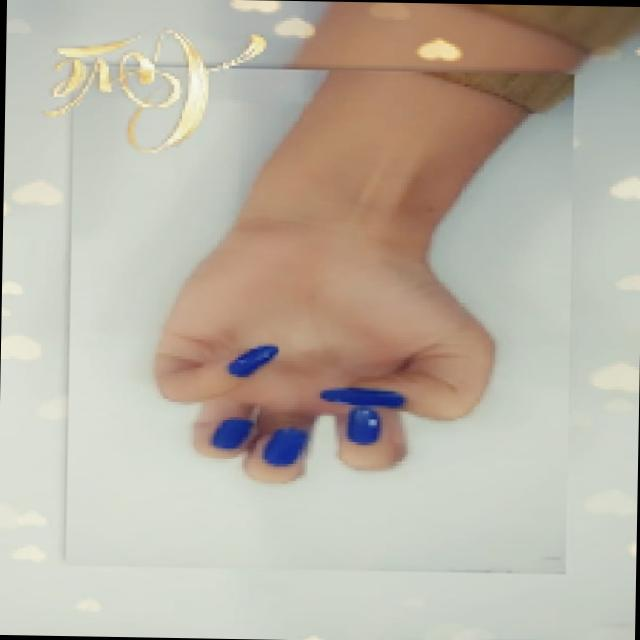Nail: (261, 426, 307, 464), (318, 387, 404, 407), (227, 344, 277, 375), (209, 417, 252, 448), (345, 406, 379, 443)
